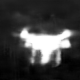plane: (12, 25, 79, 66)
